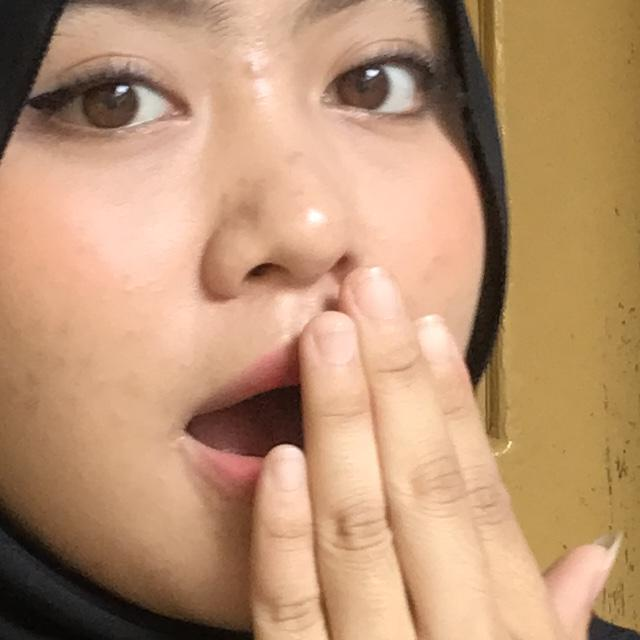ngantuk: (110, 206, 640, 640)
